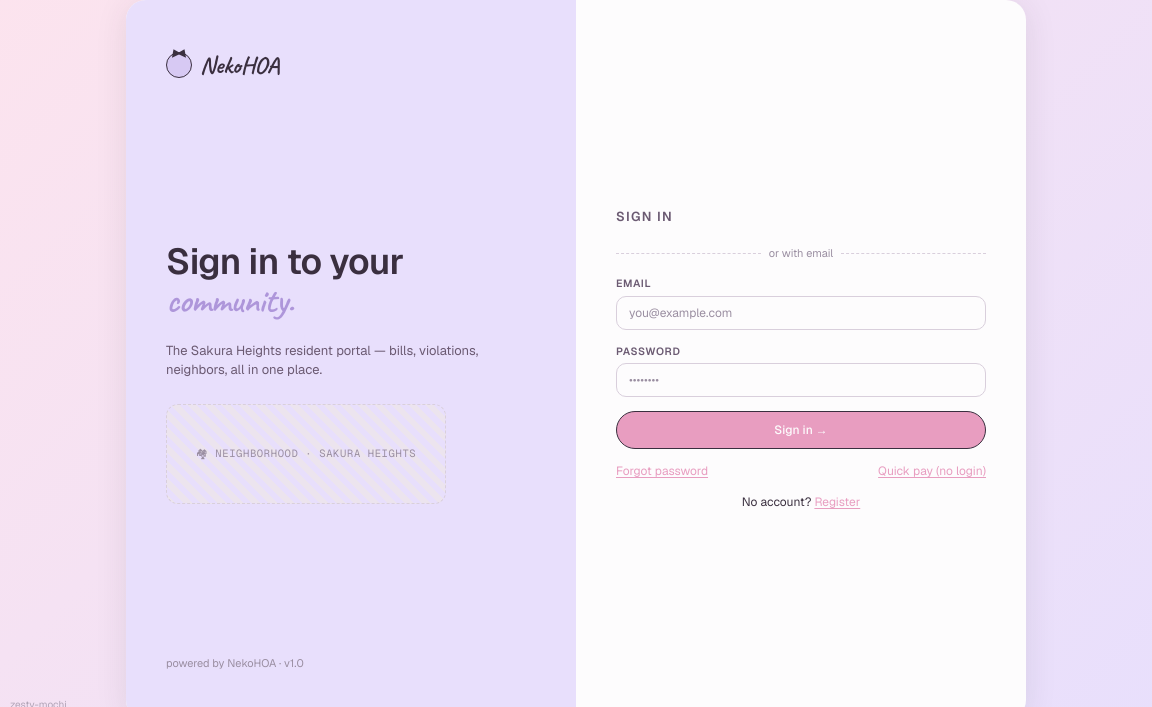
Company Administrator E2E (030 T147) › signs in with no home, lands on the portfolio, and opens Keystone Ridge's Community settings
Type "company@nekohoa.dev" into the field named "email" at (801, 313), box top-left (616, 296), bottom-right (986, 330)
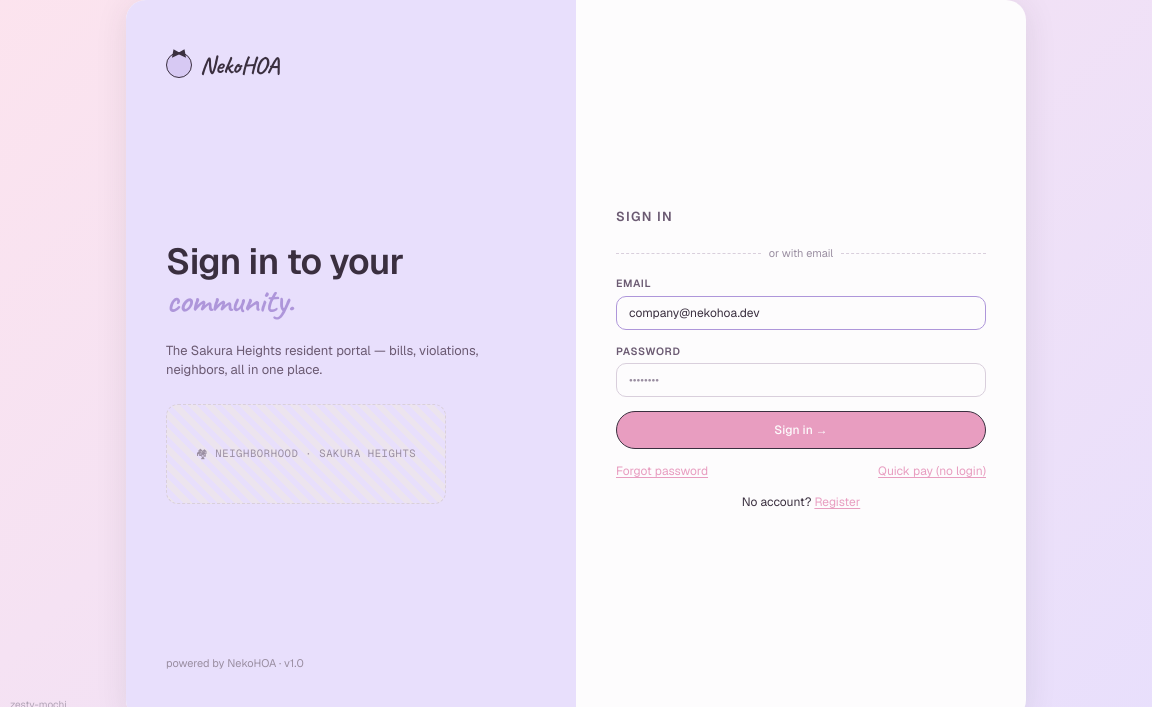
Type "Password1!" into the password field named "password" at (801, 380), box top-left (616, 363), bottom-right (986, 397)
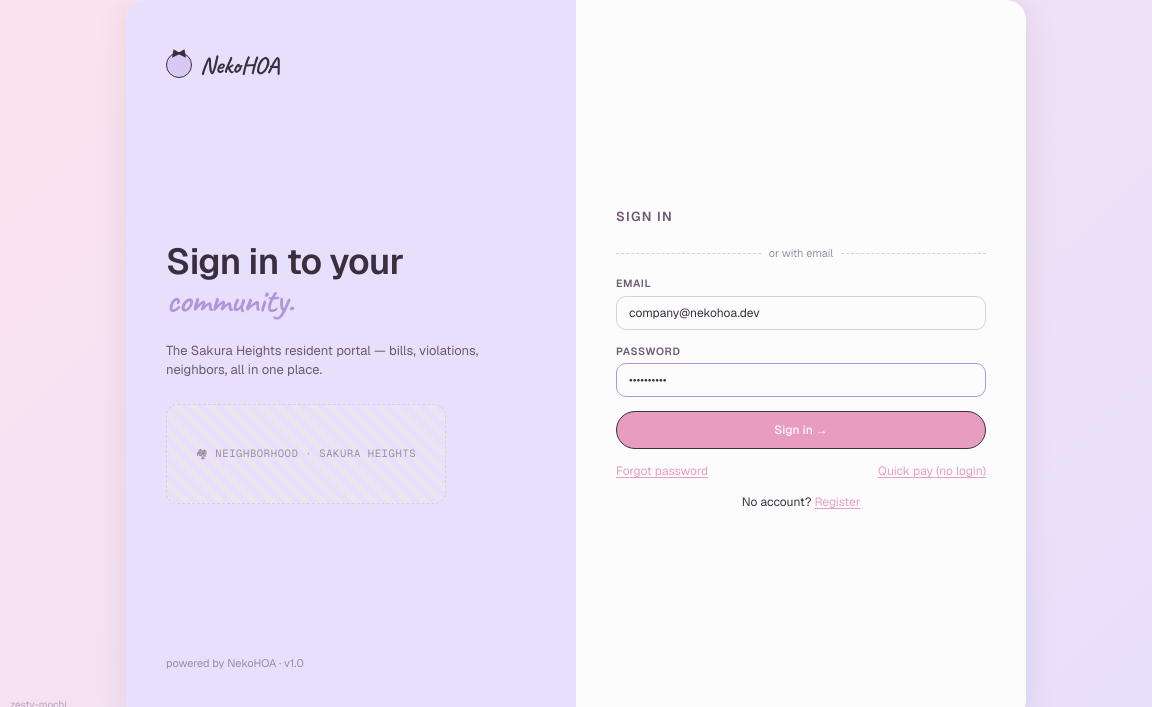
Click the button with class "btn--primary" at (801, 430), box top-left (616, 411), bottom-right (986, 449)
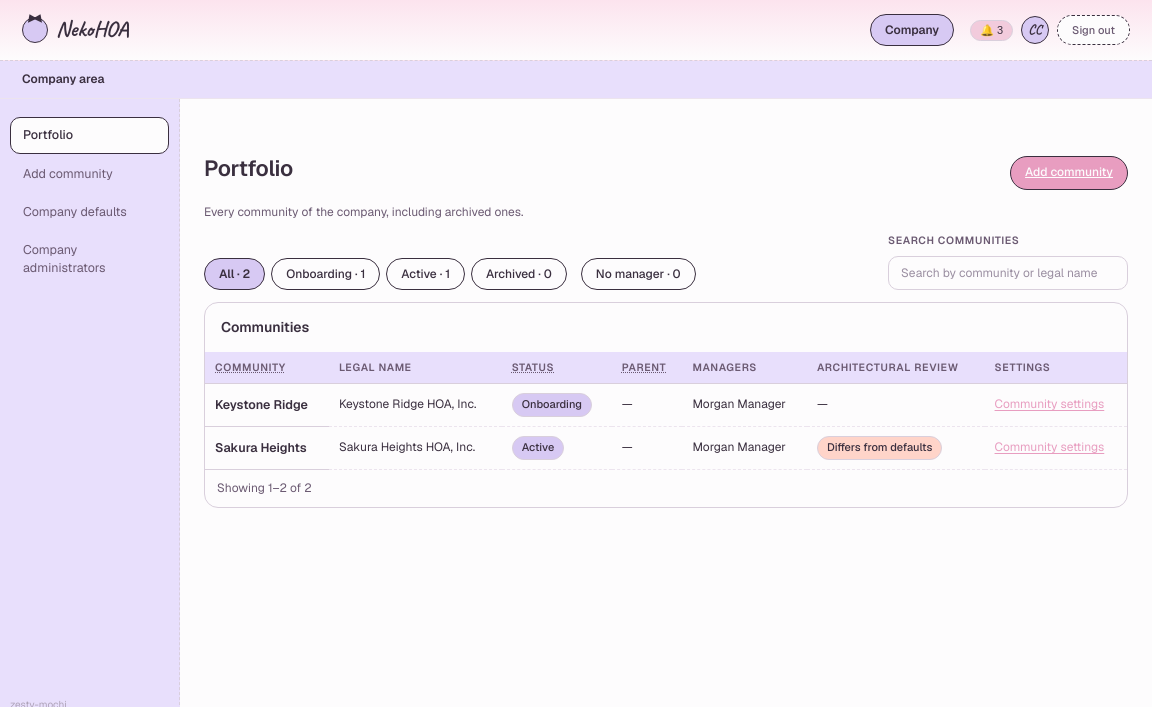
Now the heading "Portfolio" is shown, box top-left (204, 153), bottom-right (293, 185)
Now the navigation bar named "Company area navigation" shows "Company defaults", box top-left (10, 117), bottom-right (169, 286)
Now the text "Onboarding" is shown, box top-left (512, 393), bottom-right (592, 417)
Click the link "Community settings" in the row of "Keystone Ridge HOA, Inc." at (1050, 404), box top-left (995, 396), bottom-right (1105, 412)
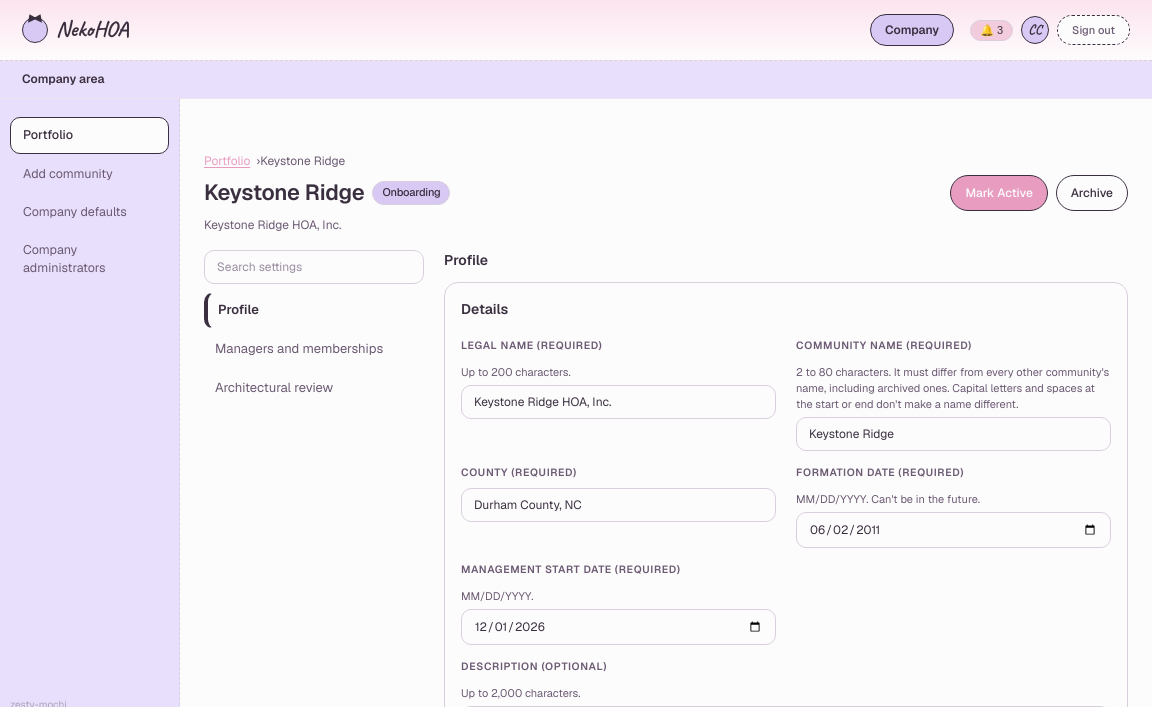
Now the navigation bar named "Breadcrumb" shows "Portfolio", box top-left (204, 153), bottom-right (345, 169)
Now the heading "Keystone Ridge Onboarding" is shown, box top-left (204, 177), bottom-right (450, 209)
Now the button with aria-label "Mark Keystone Ridge Active" is shown, box top-left (950, 175), bottom-right (1047, 211)
